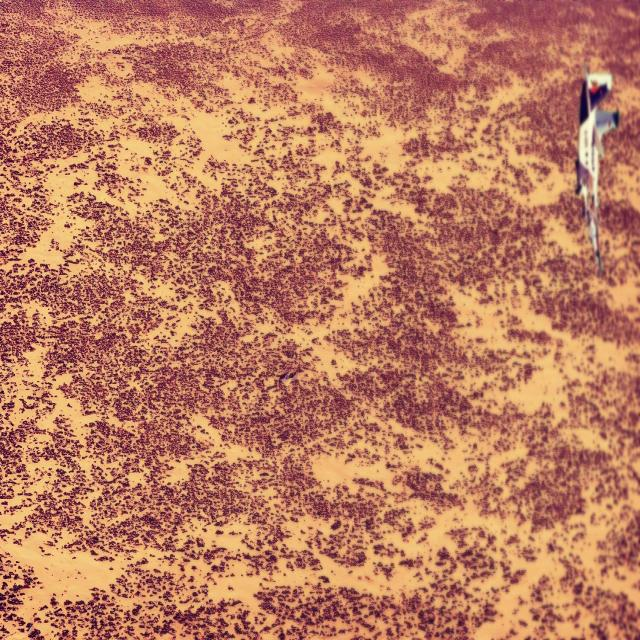airplane: (574, 62, 620, 273)
